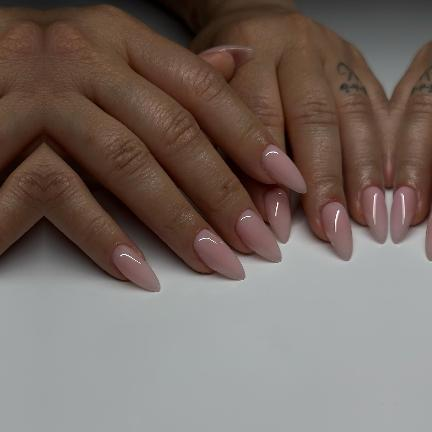Nail: (192, 229, 245, 280), (234, 209, 281, 262), (110, 244, 160, 292), (261, 145, 307, 194), (320, 202, 352, 261), (361, 187, 388, 244), (390, 187, 417, 244), (264, 188, 290, 243), (425, 210, 432, 261)
